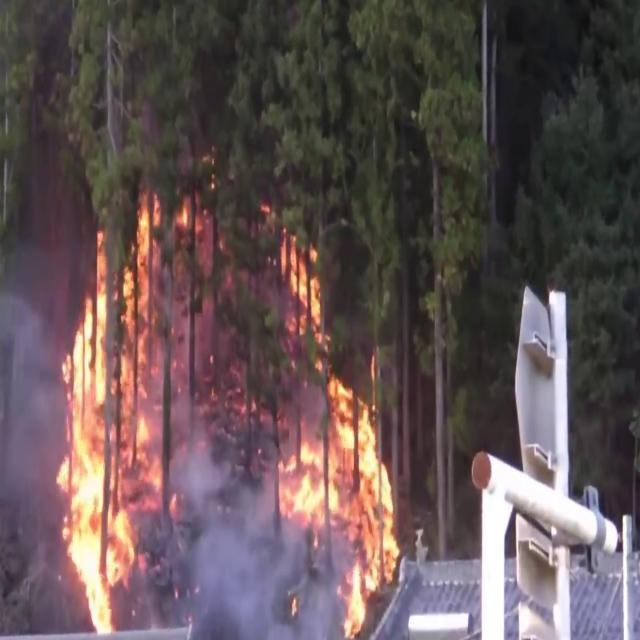Fire: (50, 194, 190, 632), (261, 253, 405, 628)
Smoke: (158, 440, 310, 638), (3, 281, 72, 580)
